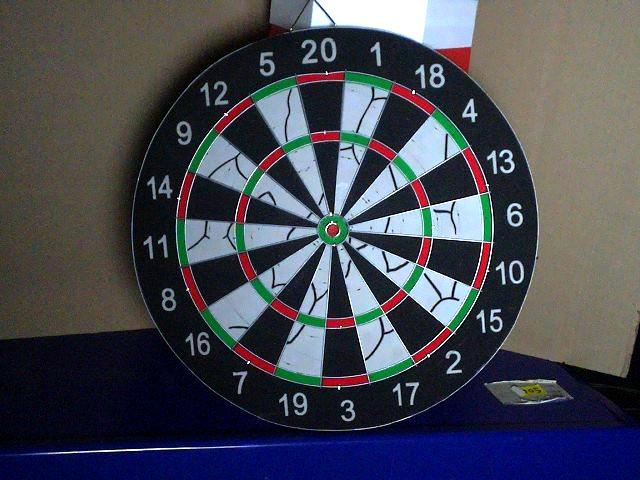triple_16: (250, 282, 278, 302)
